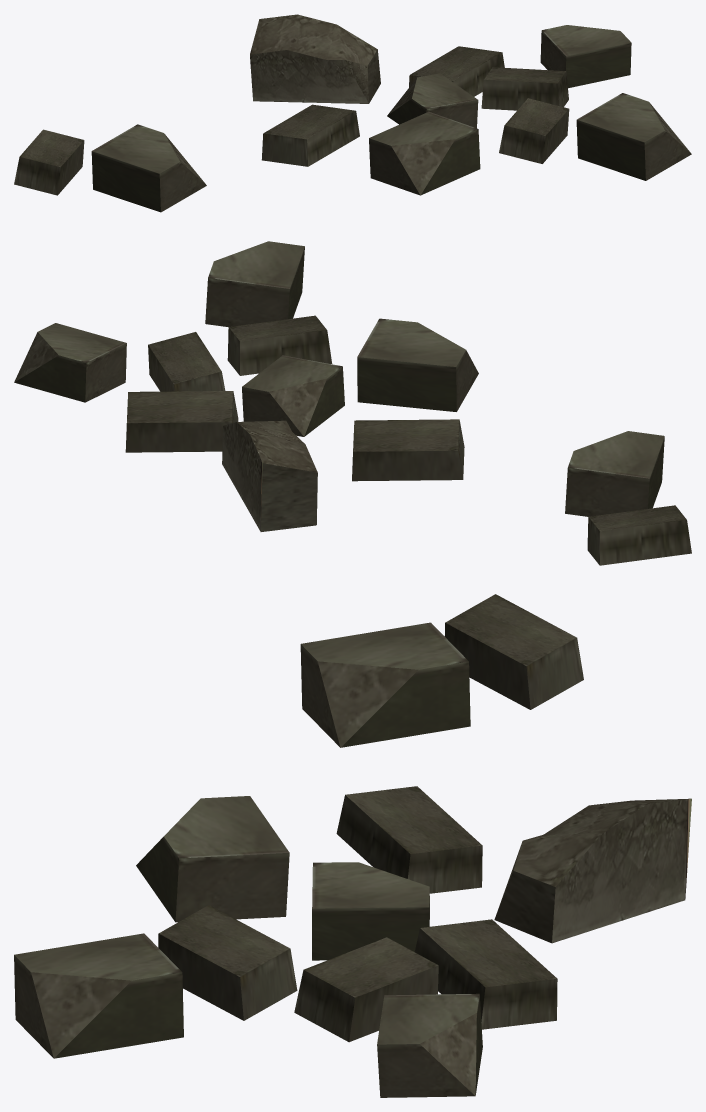
The picture shows the model from 3 angles, top to bottom: view 1: azimuth 30°, elevation 25°; view 2: azimuth 150°, elevation 25°; view 3: azimuth 270°, elevation 25°; orthographic projection. The views are drawn at different scales.
Parts seen in each view (by area): view 1: fx_wj3; view 2: fx_wj3; view 3: fx_wj3.
Boxes of the visible parts, bbox=[...] form: fx_wj3: bbox=[14, 14, 691, 212]; fx_wj3: bbox=[14, 241, 691, 565]; fx_wj3: bbox=[14, 594, 691, 1097].
Size of the model in its own units: 265 by 30.28 by 165.
1 material, 1 textured.
